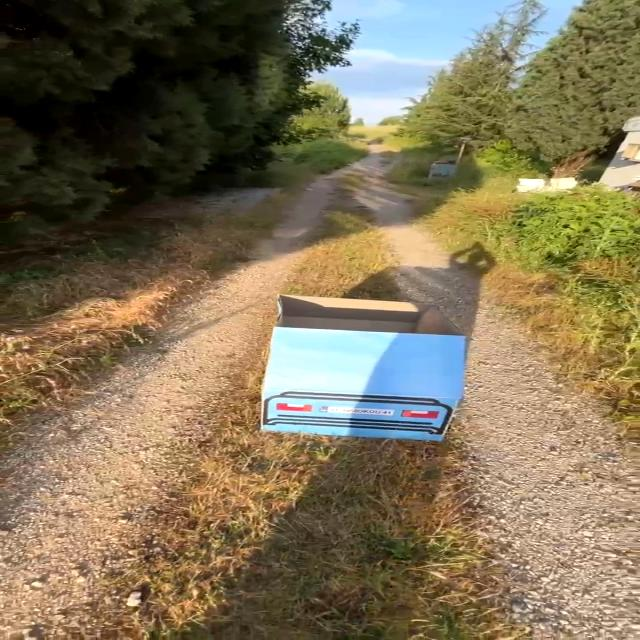blue_car: (222, 259, 492, 451)
